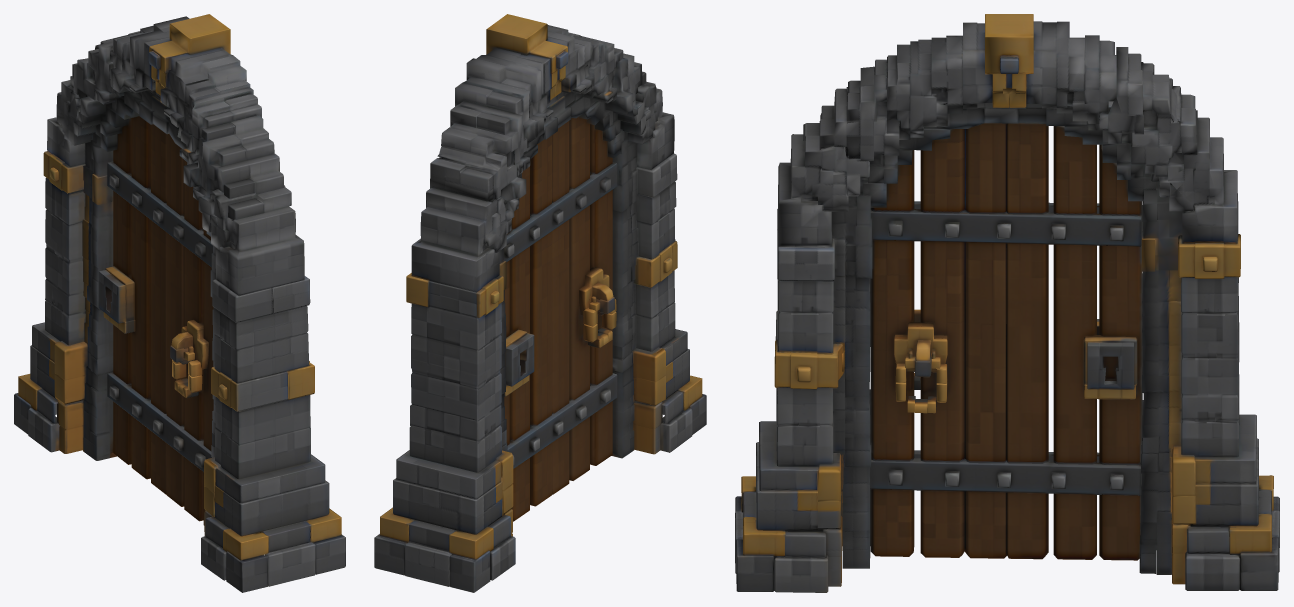
Rendered from porta.glb.
3 renders of one model, left to right at view 1: azimuth 30°, elevation 25°; view 2: azimuth 150°, elevation 25°; view 3: azimuth 270°, elevation 25°, orthographic. The views are drawn at different scales.
Visible parts, largest first — view 1: tripo_8197d4f1_0de2_4dd7_b8a1_c12c35b32b8d; view 2: tripo_8197d4f1_0de2_4dd7_b8a1_c12c35b32b8d; view 3: tripo_8197d4f1_0de2_4dd7_b8a1_c12c35b32b8d.
Part boxes in pixels (x1,y1,x2,y2): tripo_8197d4f1_0de2_4dd7_b8a1_c12c35b32b8d: (14,14,345,592); tripo_8197d4f1_0de2_4dd7_b8a1_c12c35b32b8d: (374,14,706,592); tripo_8197d4f1_0de2_4dd7_b8a1_c12c35b32b8d: (735,14,1279,592).
Size of the model in its own units: 0.2495 by 0.9995 by 0.8979.
1 material, 1 textured.
